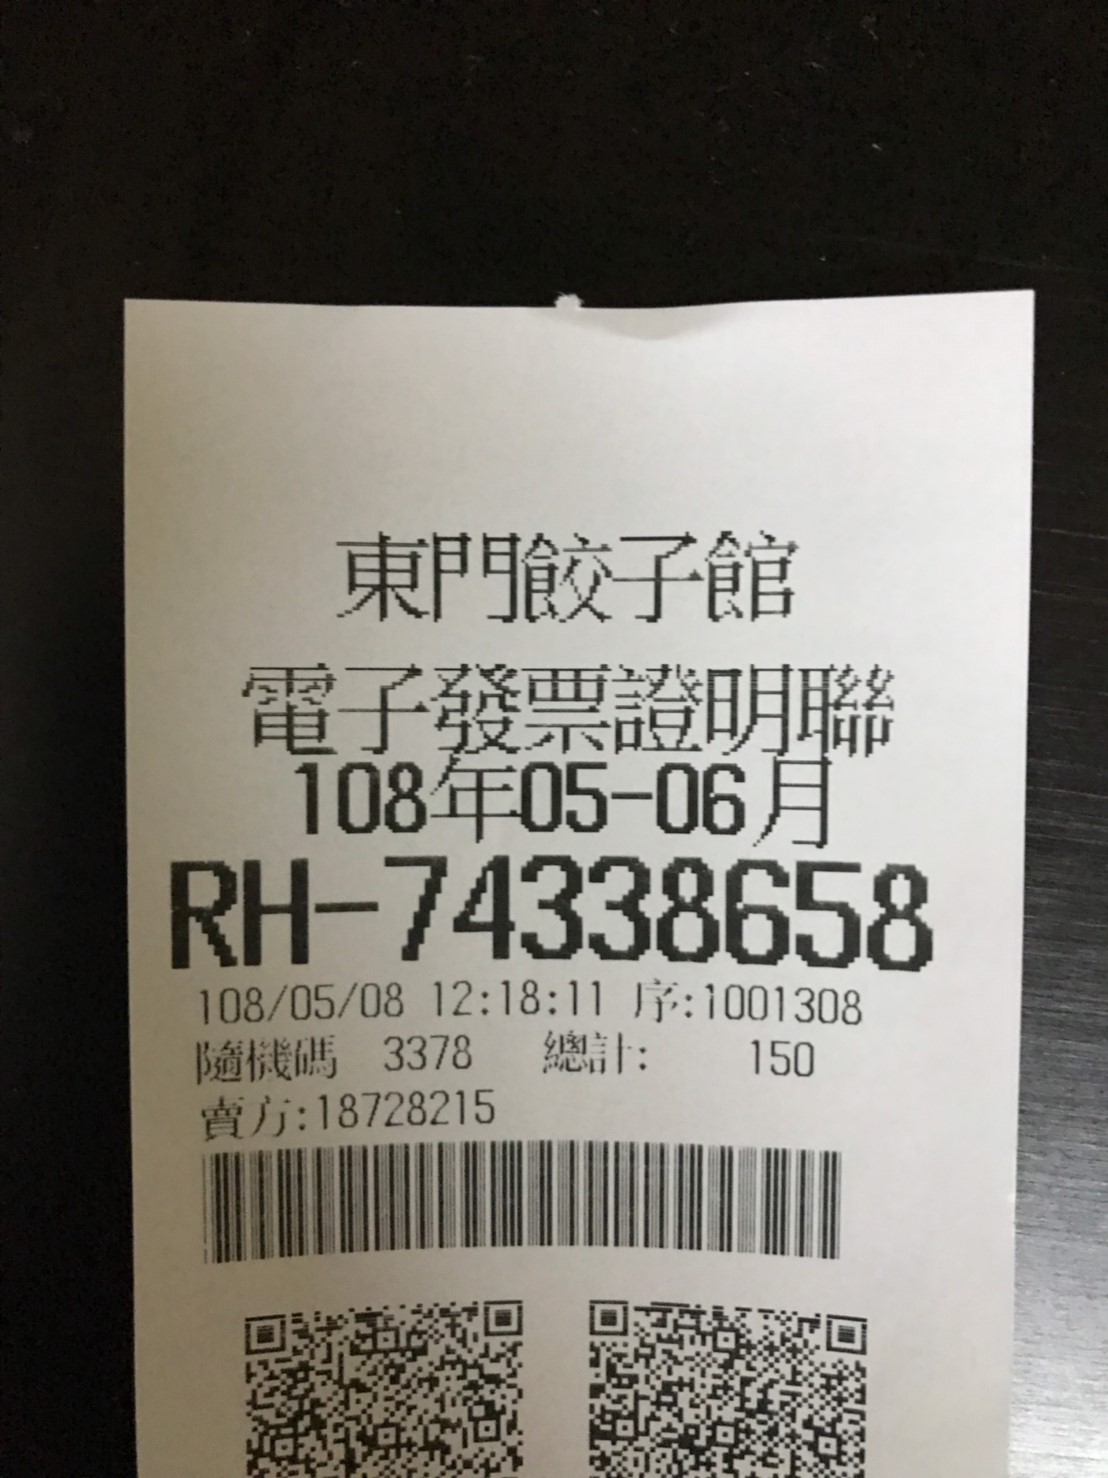Date_New: (289, 754, 841, 853)
Number_New: (382, 846, 940, 975)
